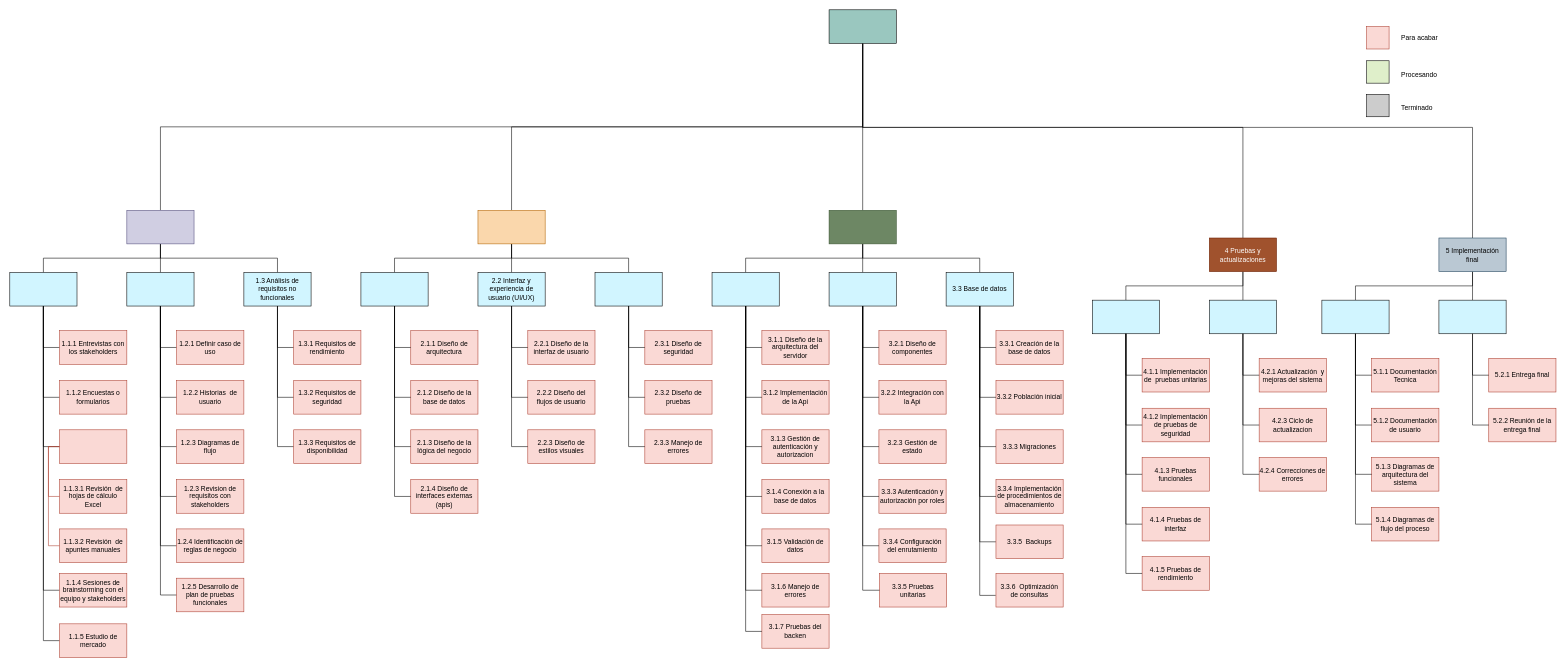
The diagram is 1566 pixels wide and 668 high, and some of its shapes have lost their labels. The centre of each missing label's shape, as x and y in pixels:
1 Análisis de requisitos: point (160, 227)
1.1 Recolección de requisitos: point (43, 289)
1.1.3 Revisión de documentos.: point (93, 446)
1.2 Análisis de requisitos funcionales: point (160, 289)
2 Diseño: point (511, 227)
2.1 Arquitectura y componentes: point (394, 289)
2.3 Seguridad y Pruebas: point (628, 289)
3. Desarrollo: point (862, 227)
3.1 Backend: point (745, 289)
3.2 Frontend: point (862, 289)
4.1 Pruebas: point (1125, 317)
4.2 Revisión final: point (1243, 317)
5.1 Documentación final: point (1355, 317)
5.2 Cierre del proyecto: point (1472, 317)
Cementerio General de Quetzaltenango: point (862, 26)
